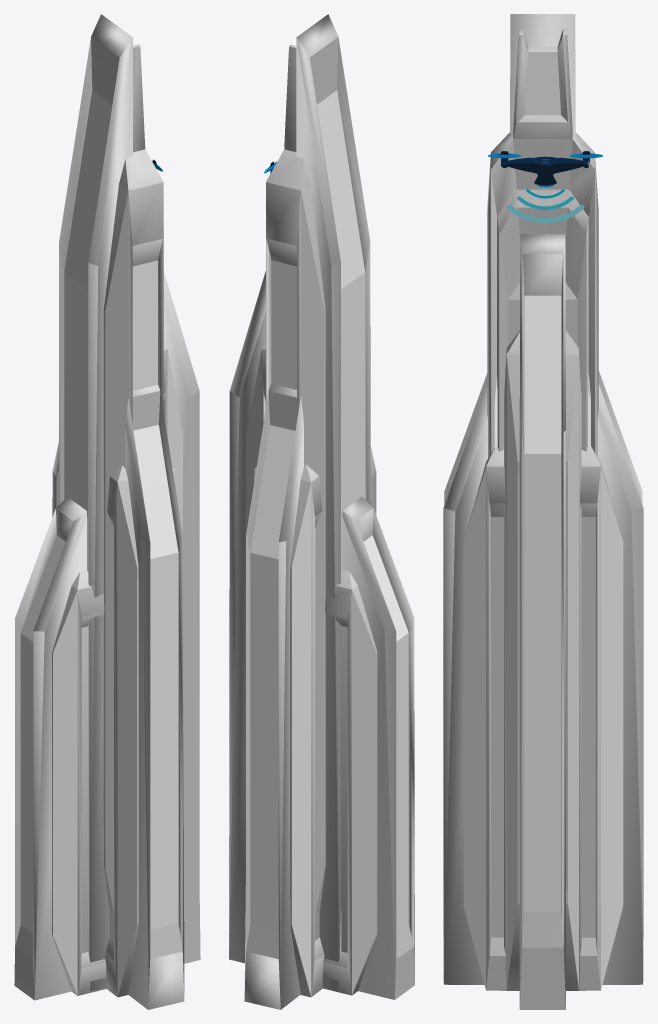
The model's file is ninth building.glb.
3 renders of one model, left to right at view 1: azimuth 30°, elevation 25°; view 2: azimuth 150°, elevation 25°; view 3: azimuth 270°, elevation 25°, orthographic.
Visible parts, largest first — view 1: Downtown Center City.1395; view 2: Downtown Center City.1395; view 3: Downtown Center City.1395, 215767.
Boxes of the visible parts, x1,y1,x2,y2 form: Downtown Center City.1395: (14, 14, 200, 1009); Downtown Center City.1395: (229, 14, 414, 1009); Downtown Center City.1395: (443, 14, 643, 1009); 215767: (488, 151, 603, 222).
Bounding box in the file's own units: 2.68 × 14.66 × 2.76.
Materials: 3 (1 with a texture image).
